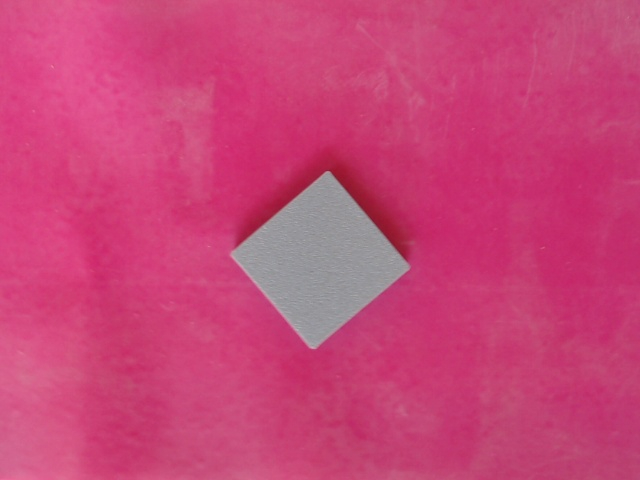Defective: (225, 167, 431, 353)
